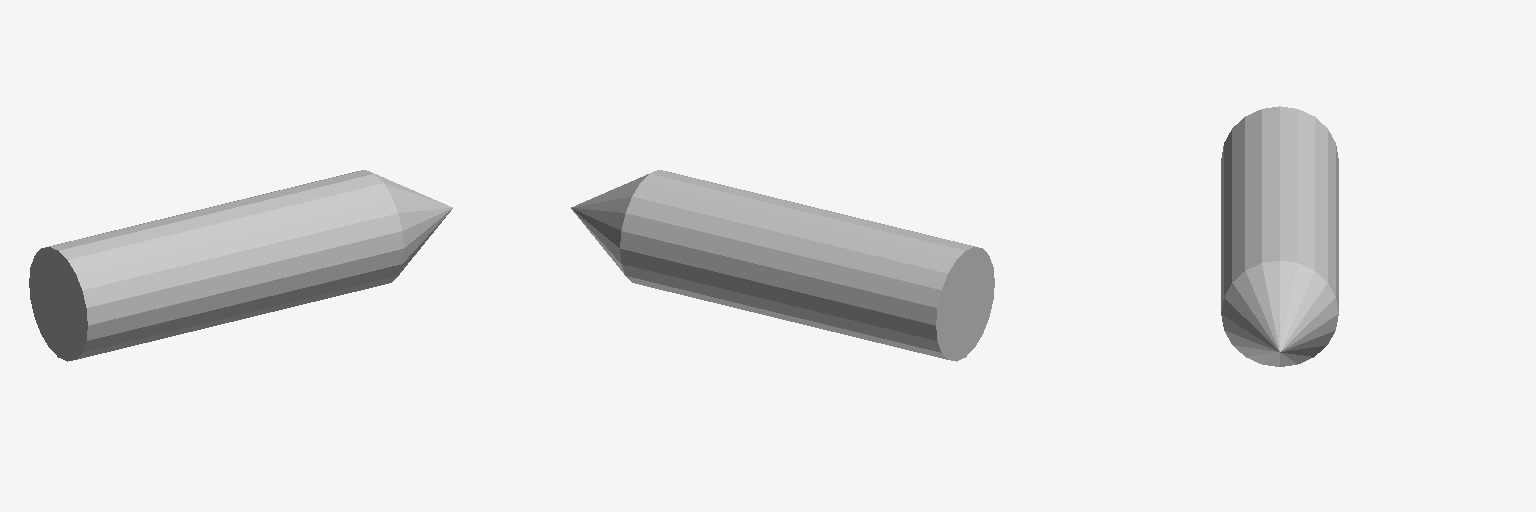
The model's file is pencil-02.obj.
The picture shows the model from 3 angles: view 1: azimuth 30°, elevation 25°; view 2: azimuth 150°, elevation 25°; view 3: azimuth 270°, elevation 25°; orthographic projection.
Visible parts, largest first — view 1: pasted__pCylinder1 group; view 2: pasted__pCylinder1 group; view 3: pasted__pCylinder1 group.
Part boxes in pixels (x1,y1,x2,y2): pasted__pCylinder1 group: (29, 170, 452, 361); pasted__pCylinder1 group: (571, 170, 994, 361); pasted__pCylinder1 group: (1221, 106, 1338, 366).
Bounding box in the file's own units: 0.2174 × 0.0561 × 0.0561.